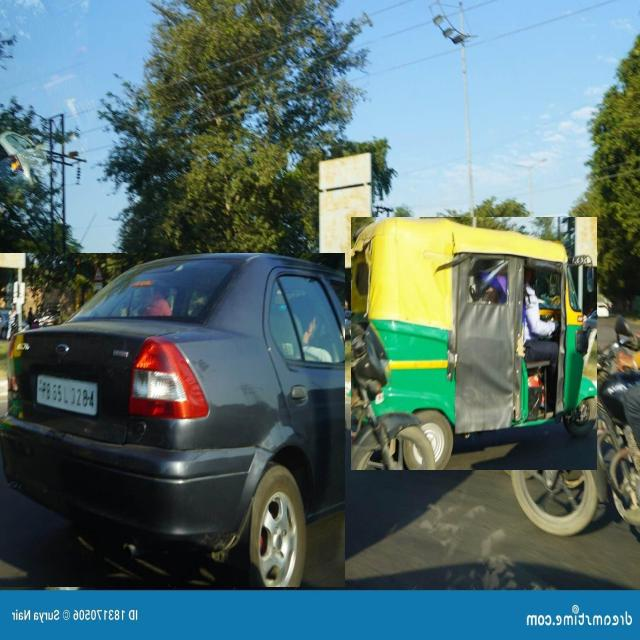autorickshaw: (351, 218, 596, 470)
car: (0, 254, 345, 587)
